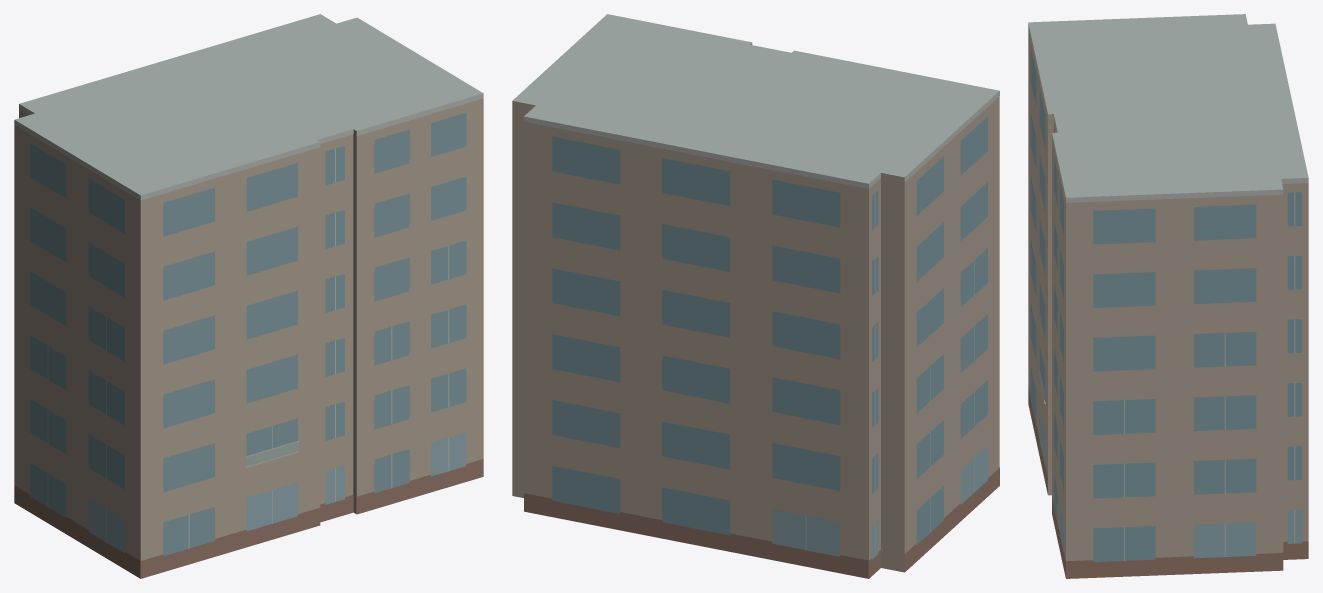
Rendered from survey-upis-32759621.glb.
3 renders of one model, left to right at view 1: azimuth 30°, elevation 25°; view 2: azimuth 150°, elevation 25°; view 3: azimuth 270°, elevation 25°, orthographic. The views are drawn at different scales.
Visible parts, largest first — view 1: survey-upis-32759621.tmp; view 2: survey-upis-32759621.tmp; view 3: survey-upis-32759621.tmp.
Part boxes in pixels (x1,y1,x2,y2): survey-upis-32759621.tmp: [14, 14, 483, 578]; survey-upis-32759621.tmp: [512, 14, 999, 578]; survey-upis-32759621.tmp: [1028, 14, 1308, 578].
Bounding box in the file's own units: 18.94 × 18.3 × 12.21.
